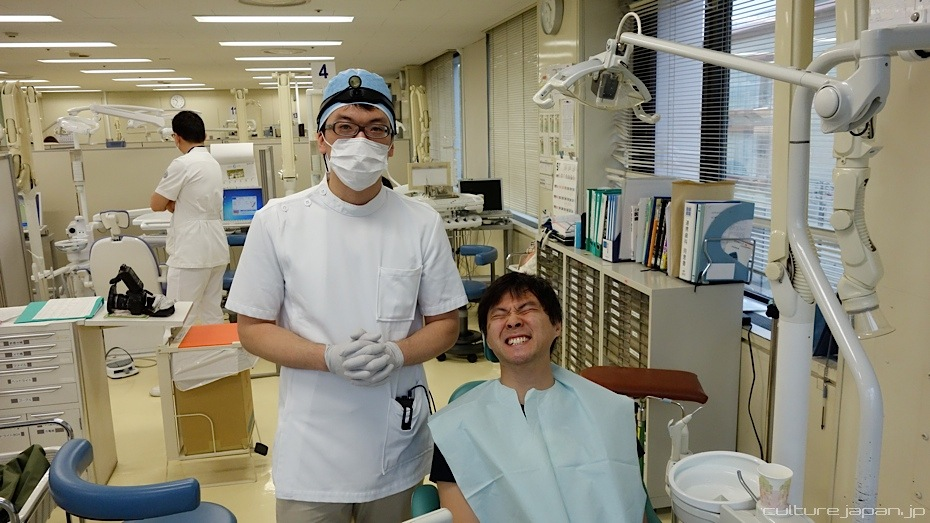mask: (327, 138, 392, 192)
